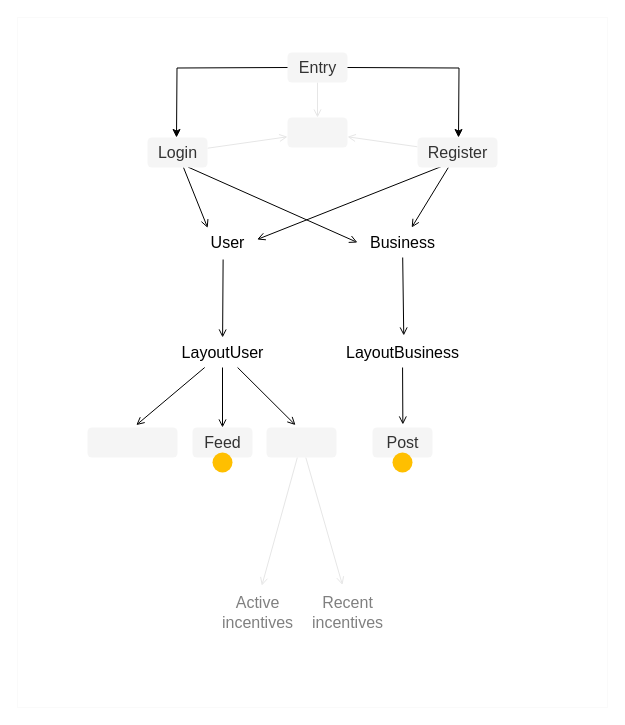
Image size: 625x725. Some labels were removed from this diagram. Each missing label, with the box of its shape:
Discover: (87, 427, 177, 457)
help: (287, 117, 347, 147)
Profile: (266, 427, 336, 457)
